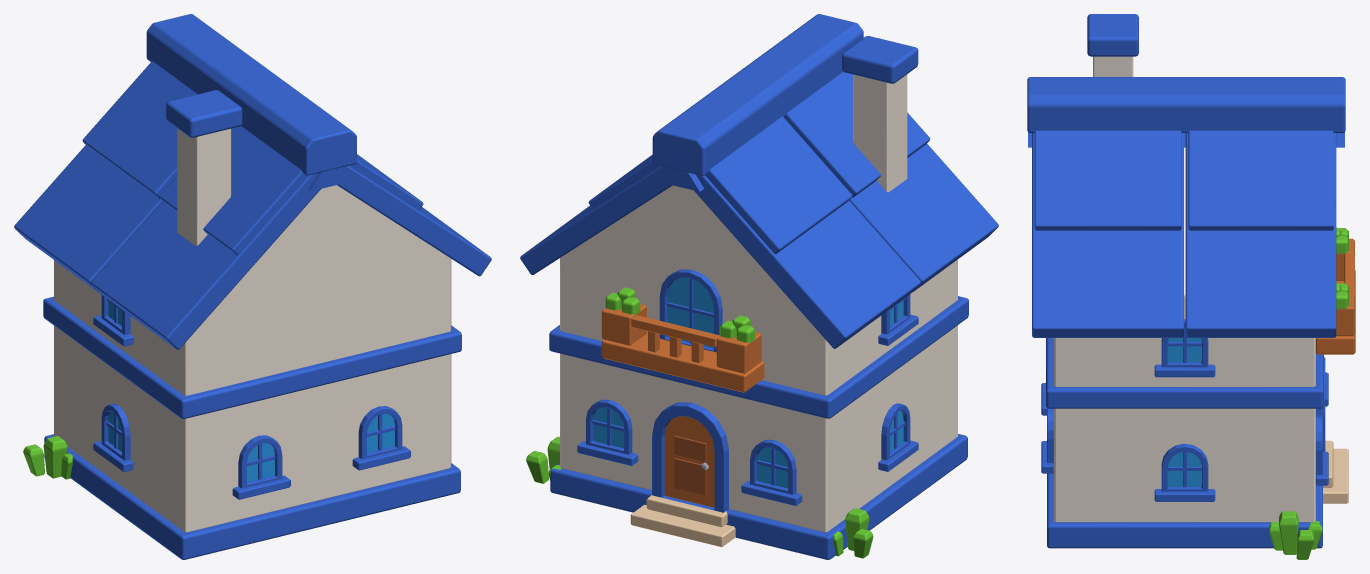
Rendered from House.glb.
3 views of the same model, side by side, from view 1: azimuth 30°, elevation 25°; view 2: azimuth 150°, elevation 25°; view 3: azimuth 270°, elevation 25° (orthographic).
Parts seen in each view (by area): view 1: M_House_TowerBlue, M_House_HouseWall, M_House_TruckCab, M_House_Leaves; view 2: M_House_TowerBlue, M_House_HouseWall, M_House_ToyLeg, M_House_TruckCab, M_House_Leaves, M_House_HouseTrim, M_House_FenceWood; view 3: M_House_TowerBlue, M_House_HouseWall, M_House_Leaves, M_House_ToyLeg, M_House_TruckCab, M_House_HouseTrim.
Boxes of the visible parts, bbox=[...] form: M_House_TowerBlue: bbox=[14, 14, 491, 559]; M_House_HouseWall: bbox=[54, 128, 451, 532]; M_House_TruckCab: bbox=[108, 301, 394, 481]; M_House_Leaves: bbox=[23, 436, 72, 479]; M_House_TowerBlue: bbox=[520, 14, 998, 559]; M_House_HouseWall: bbox=[560, 74, 957, 532]; M_House_ToyLeg: bbox=[601, 304, 764, 507]; M_House_TruckCab: bbox=[593, 277, 903, 488]; M_House_Leaves: bbox=[526, 287, 873, 558]; M_House_HouseTrim: bbox=[630, 495, 735, 547]; M_House_FenceWood: bbox=[674, 435, 706, 495]; M_House_TowerBlue: bbox=[1027, 14, 1345, 548]; M_House_HouseWall: bbox=[1054, 56, 1315, 522]; M_House_Leaves: bbox=[1269, 227, 1348, 559]; M_House_ToyLeg: bbox=[1316, 238, 1355, 354]; M_House_TruckCab: bbox=[1167, 337, 1201, 486]; M_House_HouseTrim: bbox=[1323, 440, 1348, 503].
Bounding box in the file's own units: 12.34 × 14.7 × 10.52.
